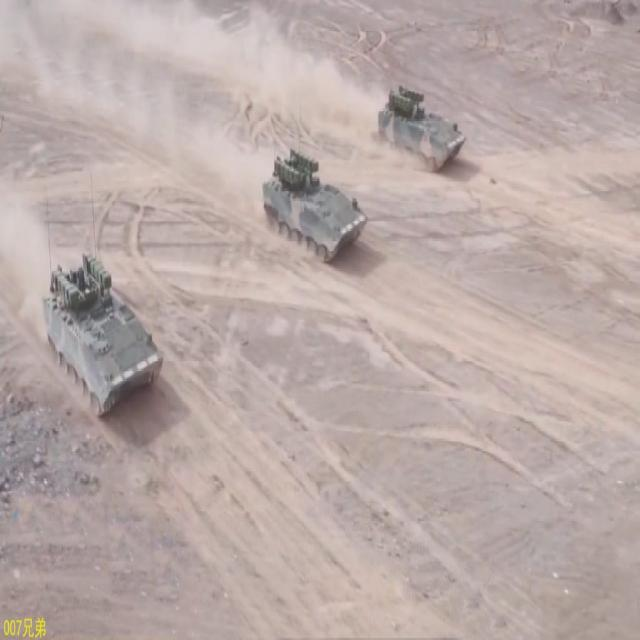tank: (34, 255, 164, 426), (261, 150, 368, 262), (376, 73, 466, 177)
